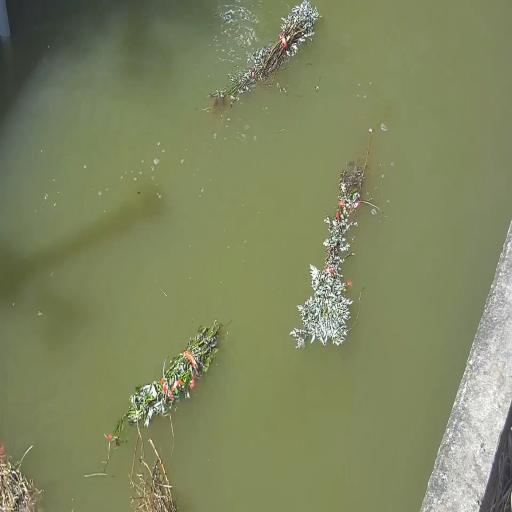twig: (289, 128, 375, 356), (204, 0, 324, 111), (113, 319, 224, 434), (126, 403, 180, 512), (0, 442, 46, 512)
